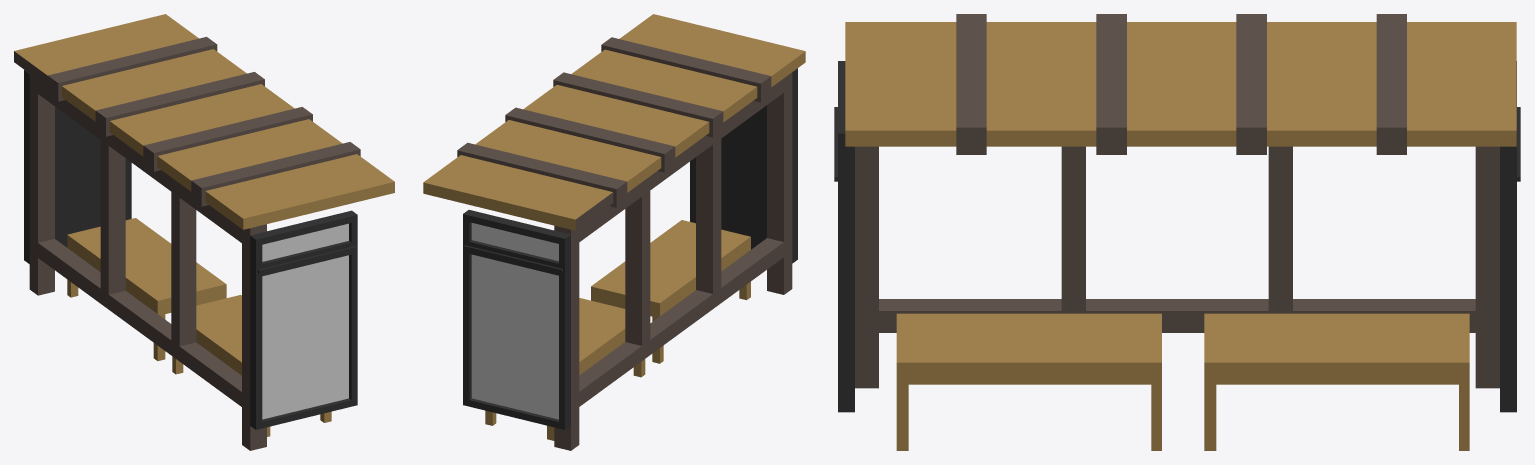
File: busstop.fbx
The picture shows the model from 3 angles, left to right: view 1: azimuth 30°, elevation 25°; view 2: azimuth 150°, elevation 25°; view 3: azimuth 270°, elevation 25°; orthographic projection. The views are drawn at different scales.
Visible parts, largest first — view 1: pCube4, pCube2, pCube1, pCube3, pCube6, pCube7; view 2: pCube4, pCube2, pCube3, pCube1, pCube7, pCube6; view 3: pCube4, pCube2, pCube6, pCube7, pCube1, pCube3.
Boxes of the visible parts, x1,y1,x2,y2 form: pCube4: (14,14,394,229); pCube2: (29,74,266,450); pCube1: (250,210,357,429); pCube3: (24,70,131,263); pCube6: (67,218,226,360); pCube7: (172,295,331,436); pCube4: (423,14,805,230); pCube2: (554,72,792,450); pCube3: (463,210,570,429); pCube1: (690,68,797,263); pCube7: (591,220,750,363); pCube6: (485,298,645,440); pCube4: (845,14,1516,154); pCube2: (855,146,1499,388); pCube6: (1204,313,1469,450); pCube7: (896,313,1161,450); pCube1: (834,61,854,412); pCube3: (1500,61,1520,412).
Size of the model in its own units: 4.41 by 6.5 by 11.27.
